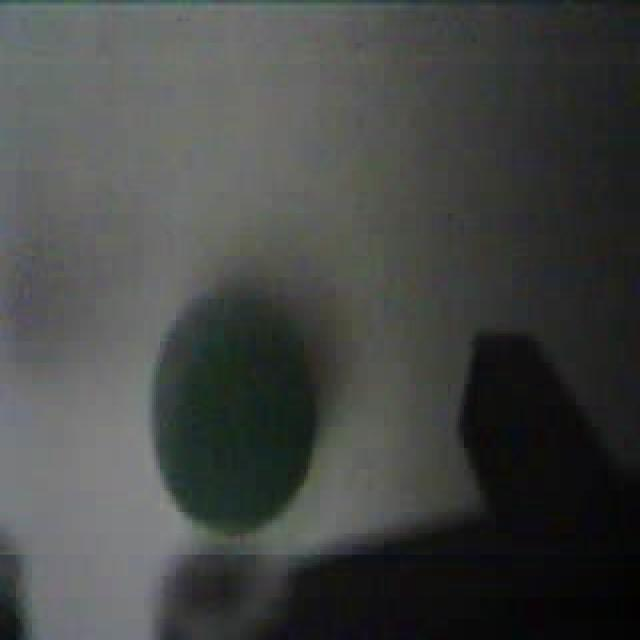green_ball: (146, 274, 322, 538)
